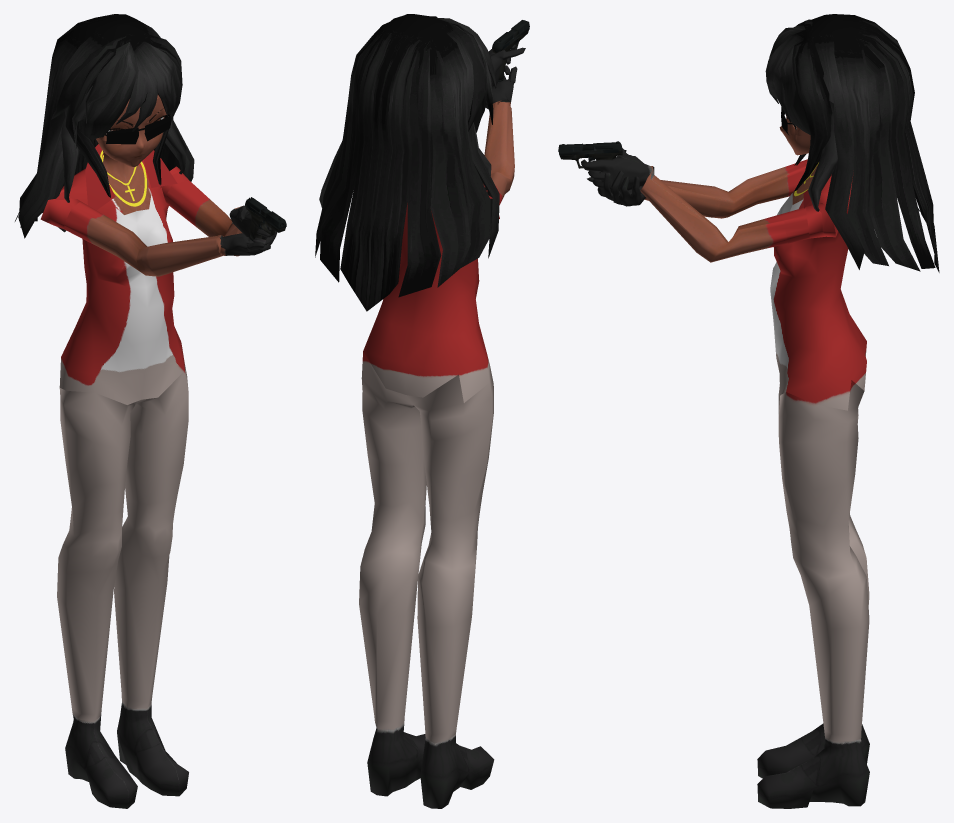
File: IcePick_GetTheBag.fbx
3 views of the same model, side by side, from view 1: azimuth 30°, elevation 25°; view 2: azimuth 150°, elevation 25°; view 3: azimuth 270°, elevation 25° (orthographic). The views are drawn at different scales.
Parts seen in each view (by area): view 1: IcePick; view 2: IcePick; view 3: IcePick.
Part boxes in pixels (x1,y1,x2,y2): IcePick: [15, 14, 286, 808]; IcePick: [315, 14, 529, 808]; IcePick: [558, 14, 939, 808].
Size of the model in its own units: 262 by 1122 by 504.
